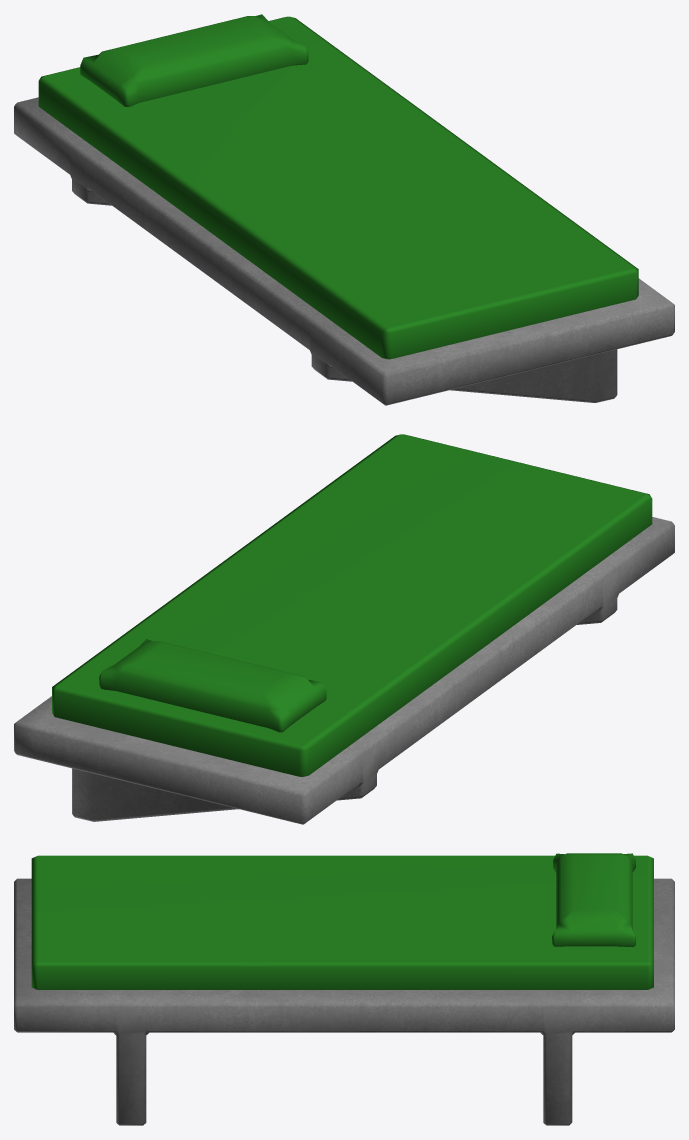
The model's file is SingleBed.FBX.
3 views of the same model, one above another, from view 1: azimuth 30°, elevation 25°; view 2: azimuth 150°, elevation 25°; view 3: azimuth 270°, elevation 25° (orthographic). The views are drawn at different scales.
Visible parts, largest first — view 1: Mattress001, LowBed001, Pillow001; view 2: Mattress001, LowBed001, Pillow001; view 3: Mattress001, LowBed001, Pillow001.
Part boxes in pixels (box(x1,y1,x2,y2)): Mattress001: box(38, 16, 638, 359); LowBed001: box(14, 97, 674, 405); Pillow001: box(80, 14, 308, 106); Mattress001: box(52, 434, 652, 776); LowBed001: box(14, 517, 674, 824); Pillow001: box(99, 639, 326, 732); Mattress001: box(31, 855, 653, 989); LowBed001: box(14, 878, 674, 1125); Pillow001: box(552, 853, 635, 946).
Size of the model in its own units: 29.82 by 19.37 by 65.7.
